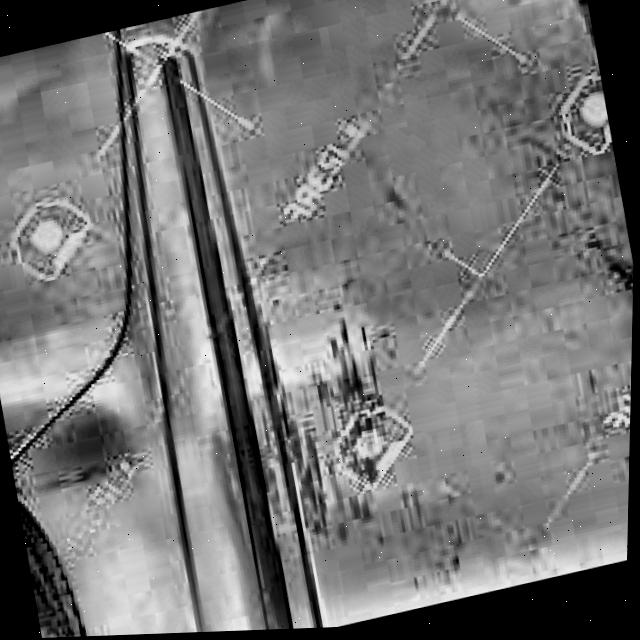bumper_dent: (203, 320, 413, 553)
